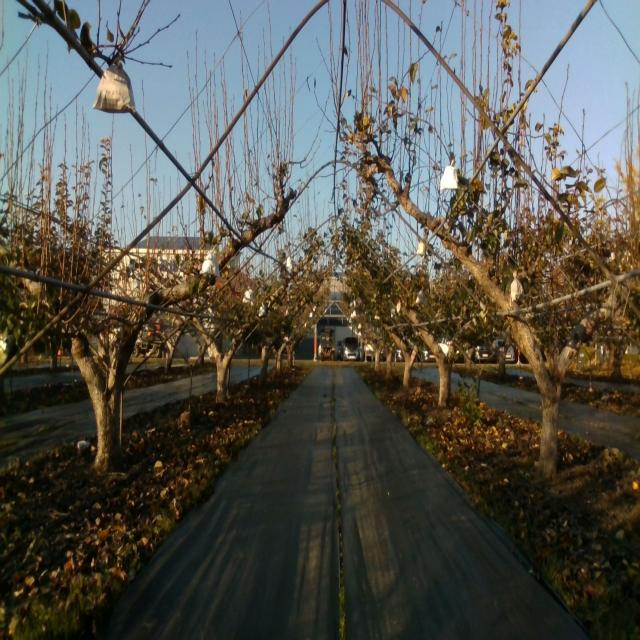pearbags: (92, 54, 133, 114), (198, 252, 222, 277), (440, 158, 458, 191), (511, 271, 524, 302), (242, 284, 254, 304)
